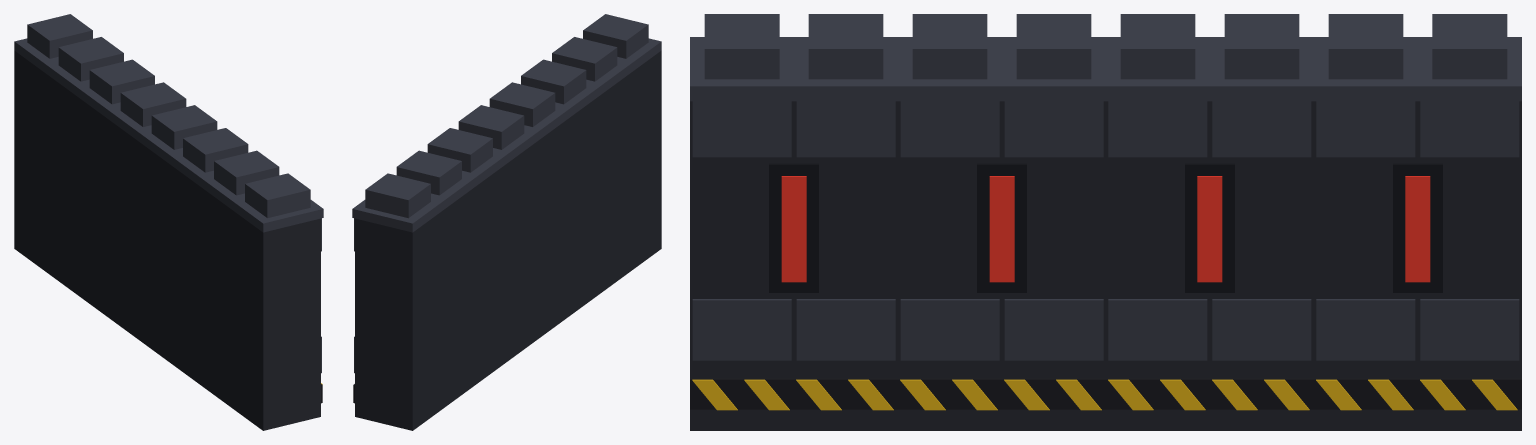
The model's file is arena_wall_side.glb.
3 views of the same model, side by side, from view 1: azimuth 30°, elevation 25°; view 2: azimuth 150°, elevation 25°; view 3: azimuth 270°, elevation 25° (orthographic). The views are drawn at different scales.
Visible parts, largest first — view 1: arena_wall_side; view 2: arena_wall_side; view 3: arena_wall_side.
Boxes of the visible parts, bbox=[...] form: arena_wall_side: bbox=[14, 14, 323, 430]; arena_wall_side: bbox=[352, 14, 661, 430]; arena_wall_side: bbox=[690, 14, 1521, 430].
Size of the model in its own units: 1.4 by 5 by 10.
Materials: 1 (1 with a texture image).
